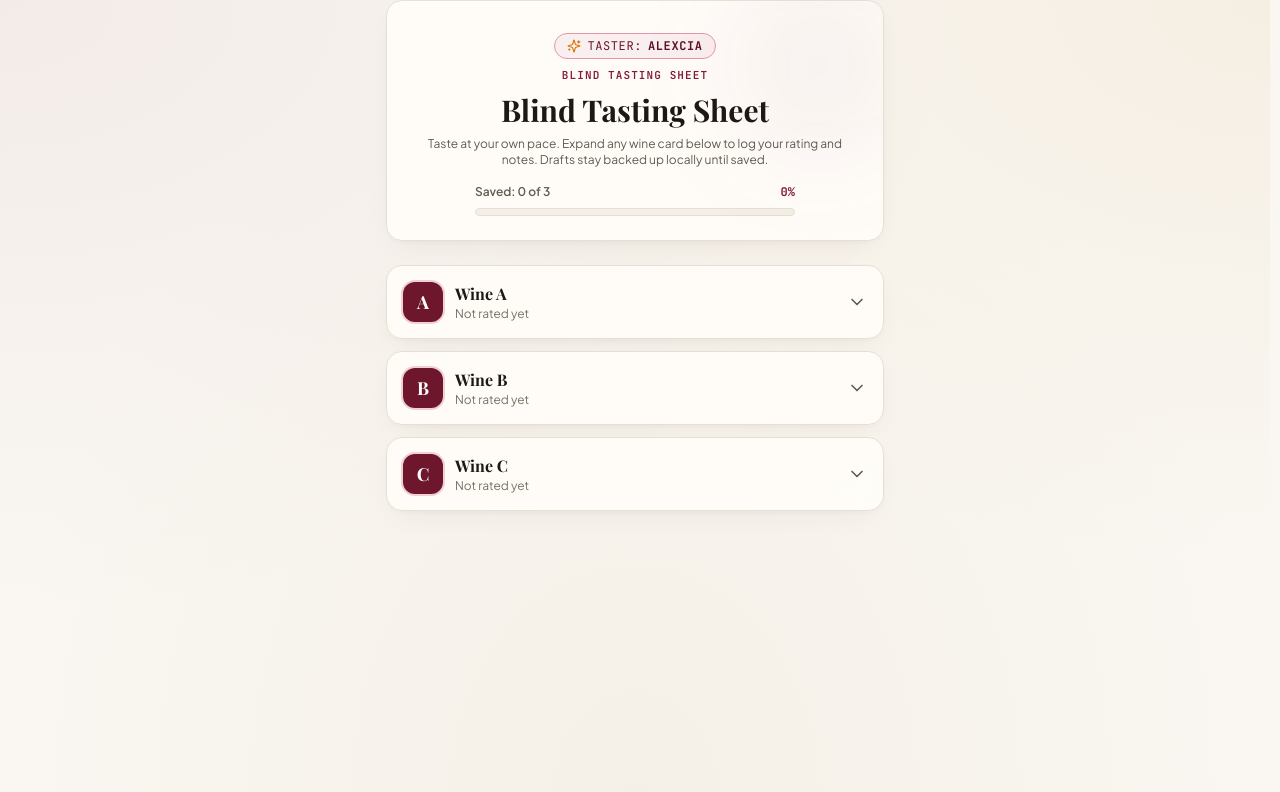
Scenario: TastingSheet › implements WAI-ARIA heading disclosure attributes and warns beforeunload when dirty drafts exist
The width and height of the screenshot is (1280, 792).
Later steps or results of the test are not shown.
Click the button "B Wine B Not rated yet" at (423, 388), box [387, 352, 883, 424]
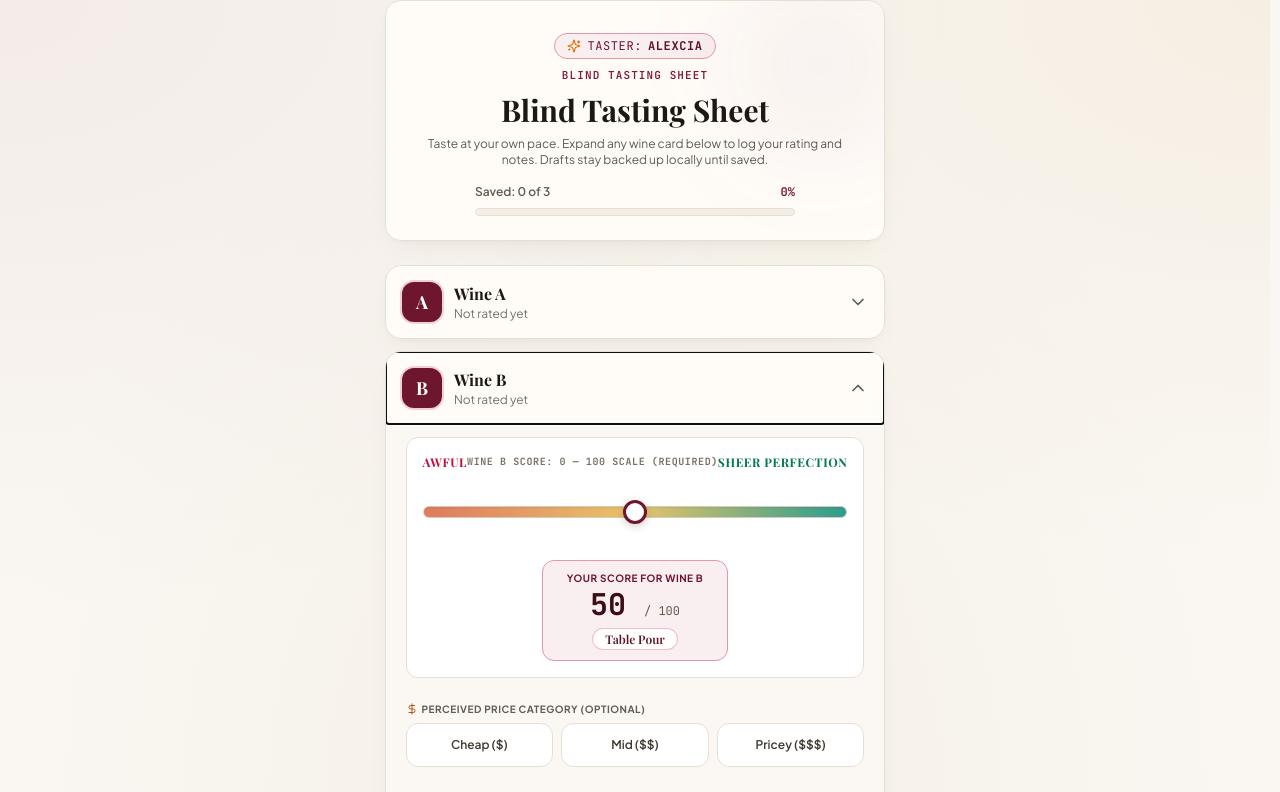
Check: the button "B Wine B Not rated yet" is expanded, box [386, 352, 884, 424]
